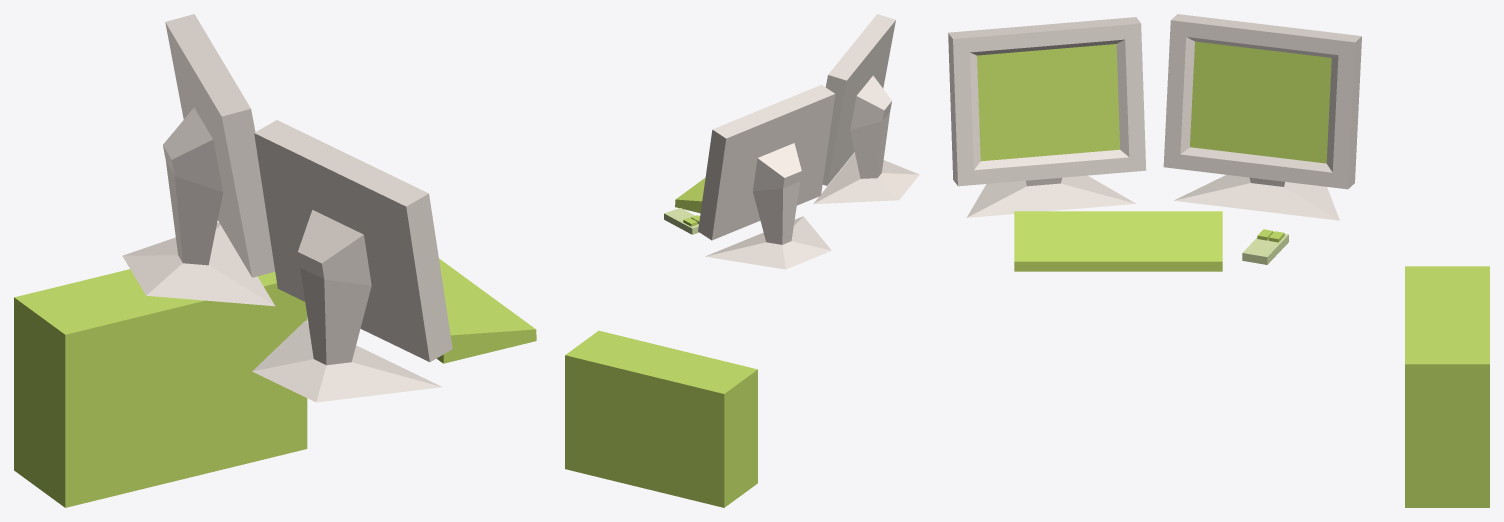
Rendered from Computer.fbx.
3 views of the same model, side by side, from view 1: azimuth 30°, elevation 25°; view 2: azimuth 150°, elevation 25°; view 3: azimuth 270°, elevation 25° (orthographic). The views are drawn at different scales.
Visible parts, largest first — view 1: Computer; view 2: Computer; view 3: Computer.
Boxes of the visible parts, bbox=[...] form: Computer: bbox=[14, 14, 536, 507]; Computer: bbox=[565, 14, 919, 507]; Computer: bbox=[948, 14, 1489, 507].
Bounding box in the file's own units: 7.13 × 12.99 × 15.64.
1 material, 1 textured.
